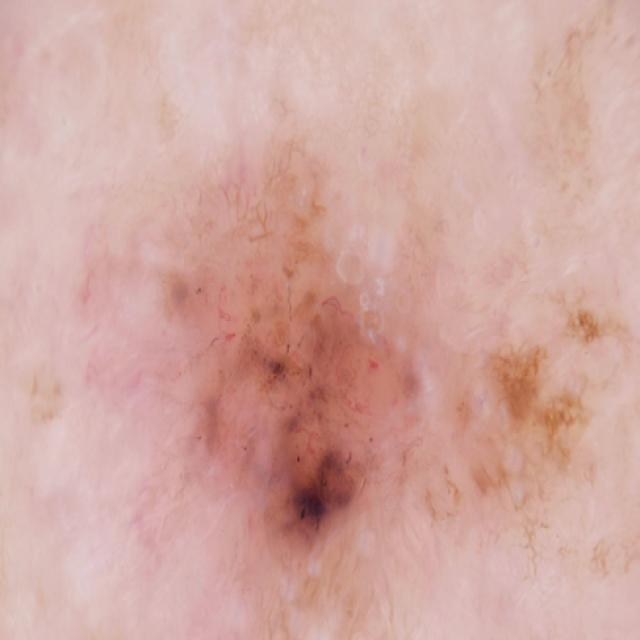Carcinoma: (125, 158, 451, 604)
